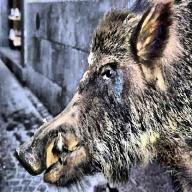boar: (20, 0, 189, 181)
